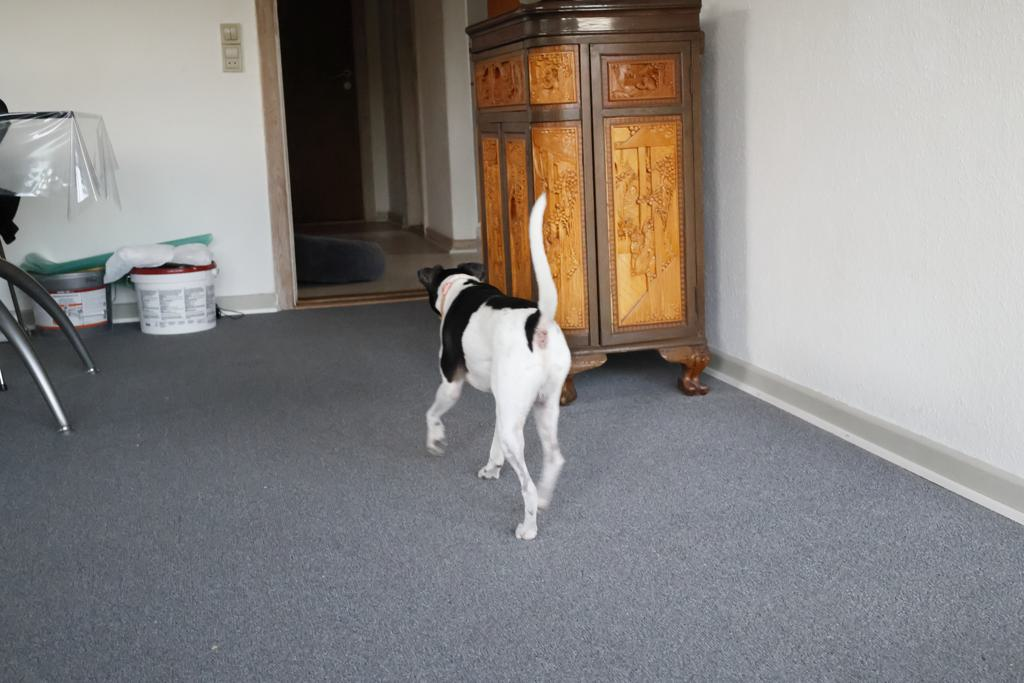Dog: (407, 189, 580, 549)
